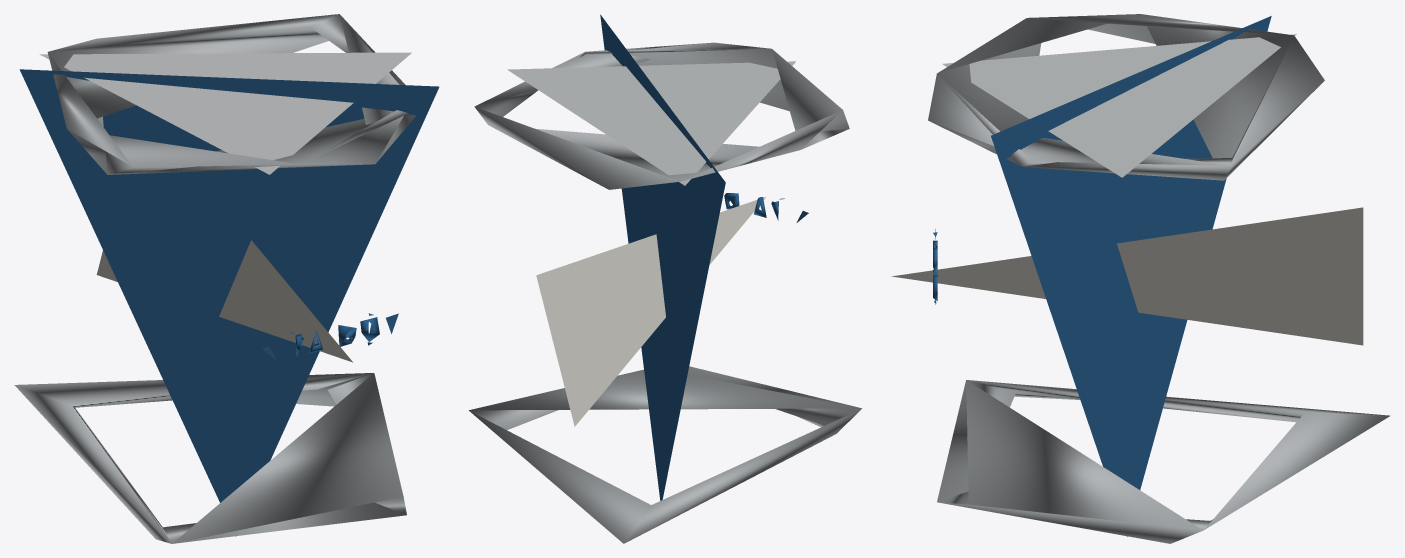
File: lon_2_sua.glb
3 views of the same model, side by side, from view 1: azimuth 30°, elevation 25°; view 2: azimuth 150°, elevation 25°; view 3: azimuth 270°, elevation 25° (orthographic). The views are drawn at different scales.
Visible parts, largest first — view 1: lon_2_sua; view 2: lon_2_sua; view 3: lon_2_sua.
Part boxes in pixels (bbox=[...]): lon_2_sua: bbox=[14, 14, 439, 543]; lon_2_sua: bbox=[469, 14, 861, 543]; lon_2_sua: bbox=[891, 14, 1390, 543].
Size of the model in its own units: 0.1629 by 0.2102 by 0.2034.
